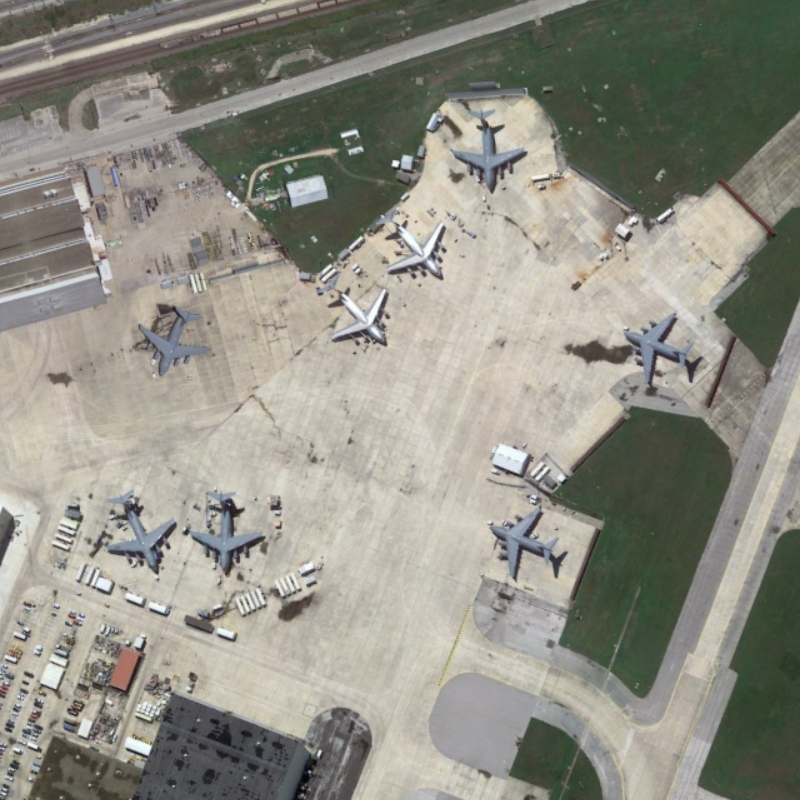A3: (447, 100, 532, 198), (615, 307, 703, 392), (187, 488, 270, 577), (484, 505, 570, 585), (104, 486, 179, 576), (133, 301, 216, 380), (320, 281, 390, 353), (382, 214, 449, 281)
